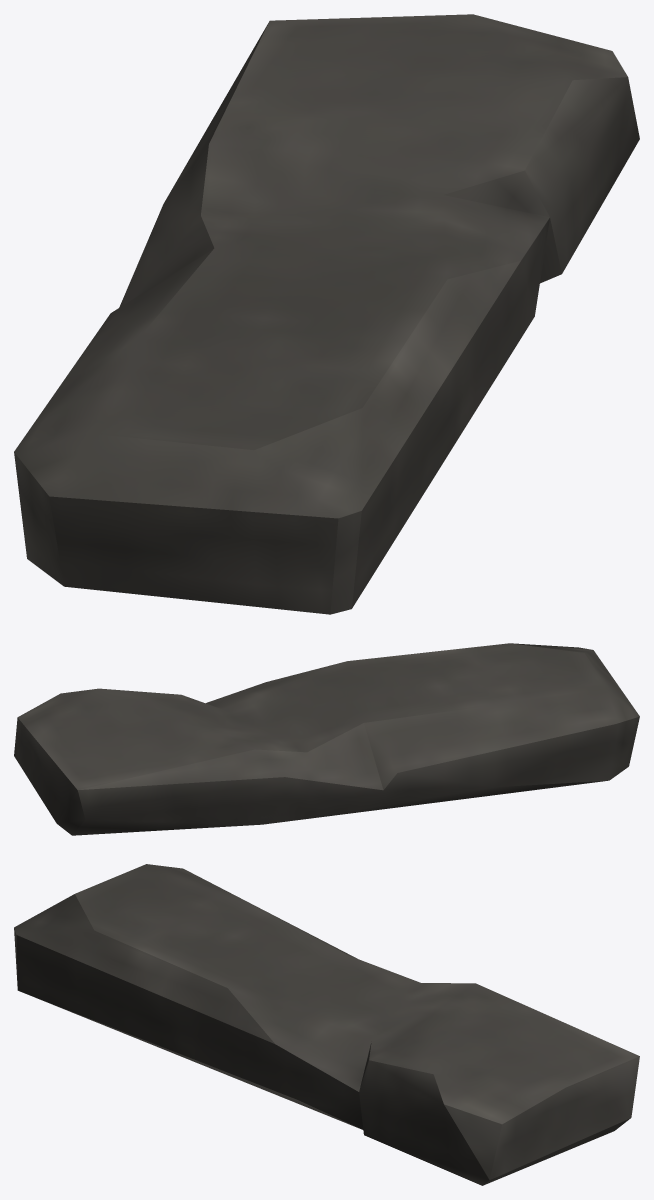
The model's file is Stair_el2.fbx.
3 renders of one model, top to bottom at view 1: azimuth 30°, elevation 25°; view 2: azimuth 150°, elevation 25°; view 3: azimuth 270°, elevation 25°, orthographic. The views are drawn at different scales.
Visible parts, largest first — view 1: Stair_el2; view 2: Stair_el2; view 3: Stair_el2.
Boxes of the visible parts, x1,y1,x2,y2 form: Stair_el2: (14,14,639,614); Stair_el2: (14,643,639,835); Stair_el2: (14,864,639,1185).
Size of the model in its own units: 262 by 40.76 by 267.
Materials: 1 (1 with a texture image).
